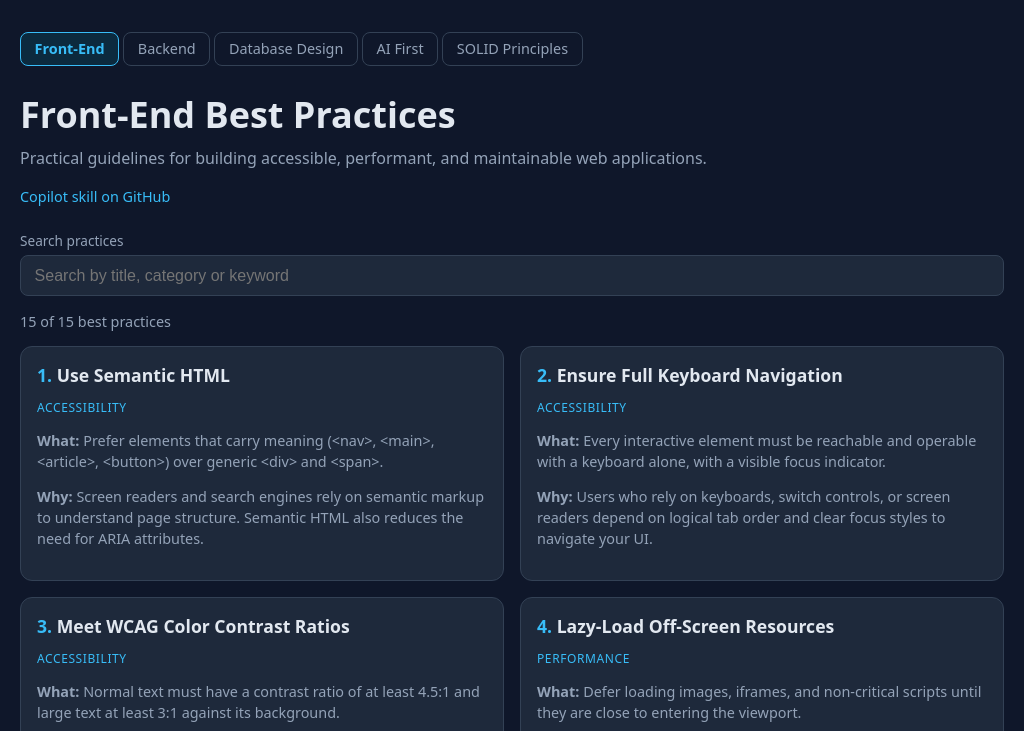
Test: BestPracticesPage › switches to the SOLID principles section when its tab is clicked
Click the link "SOLID Principles": {"x": 512, "y": 49} [442, 32, 583, 66]
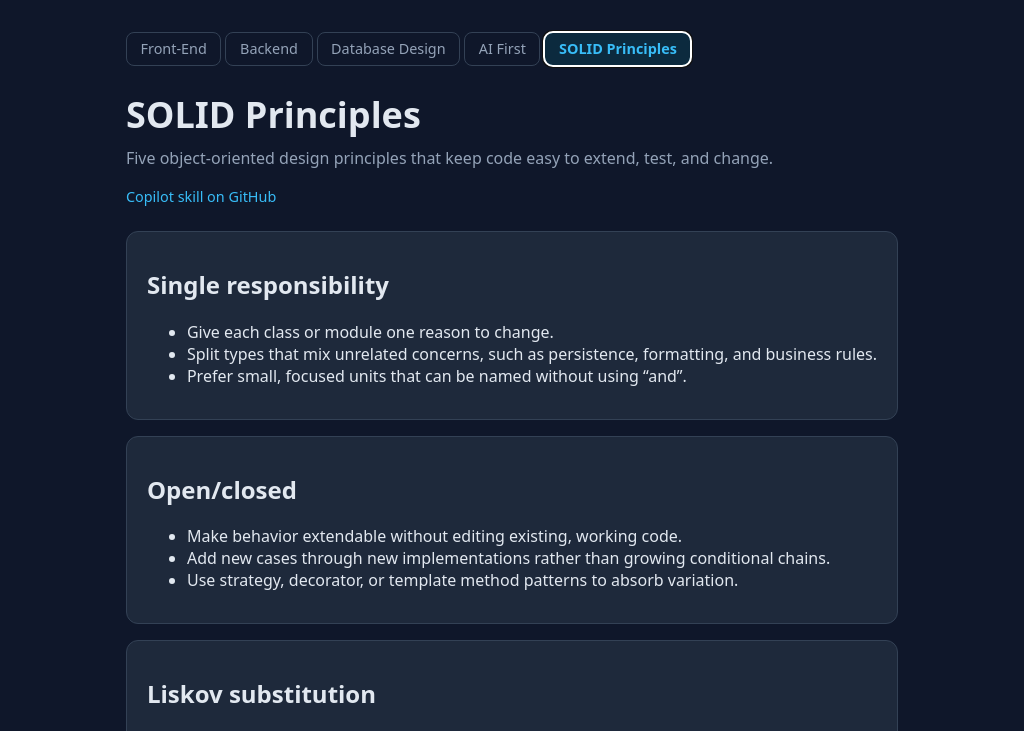
Check: the heading "SOLID Principles" is shown, box [126, 90, 421, 139]
